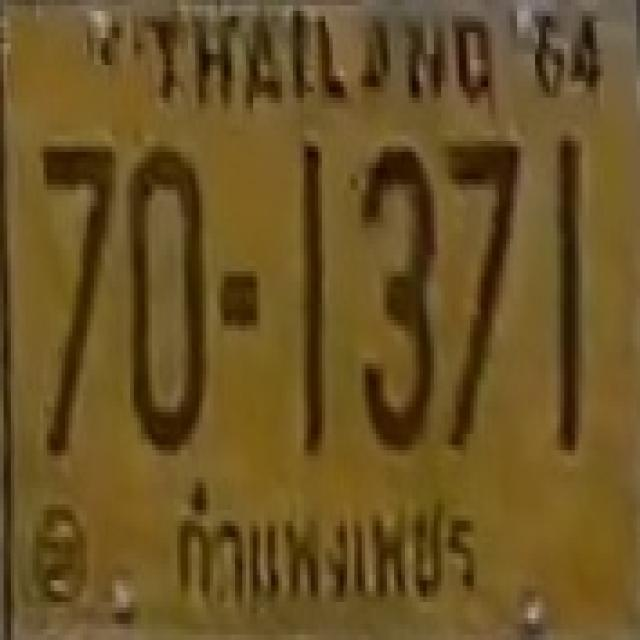0: (126, 141, 202, 445)
1: (552, 136, 580, 439), (298, 136, 324, 439), (553, 133, 579, 415)
3: (358, 141, 434, 445)
7: (41, 141, 114, 445), (445, 136, 517, 439), (41, 141, 114, 347), (445, 135, 517, 331), (41, 141, 114, 325)
KPT: (160, 473, 482, 620)
